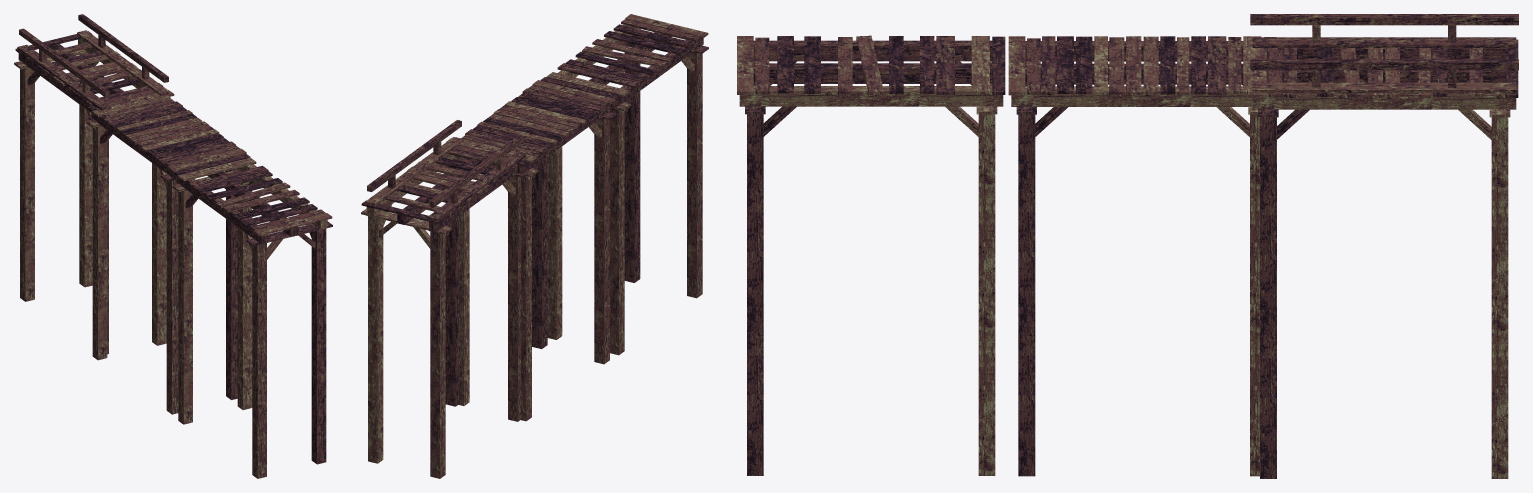
The model's file is PonteMaisFeiaDoMundo.fbx.
3 views of the same model, side by side, from view 1: azimuth 30°, elevation 25°; view 2: azimuth 150°, elevation 25°; view 3: azimuth 270°, elevation 25° (orthographic). The views are drawn at different scales.
Parts seen in each view (by area): view 1: Wooden_bridge-material.044; view 2: Wooden_bridge-material.044; view 3: Wooden_bridge-material.044.
Boxes of the visible parts, bbox=[...] form: Wooden_bridge-material.044: bbox=[14, 14, 332, 478]; Wooden_bridge-material.044: bbox=[361, 14, 708, 478]; Wooden_bridge-material.044: bbox=[737, 14, 1518, 478].
Bounding box in the file's own units: 459 × 1358 × 2312.
1 material, 1 textured.
